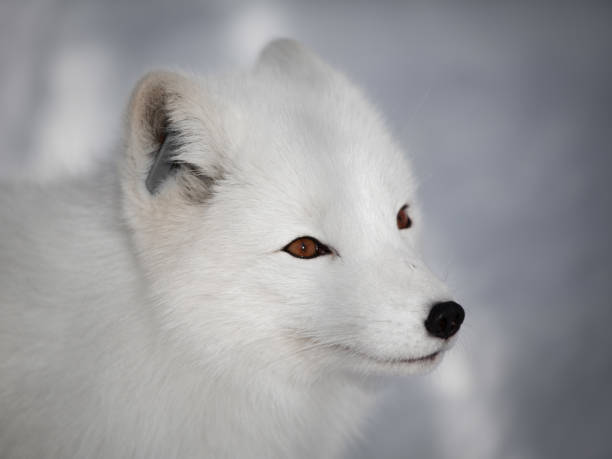arcticfox: (179, 98, 467, 376)
